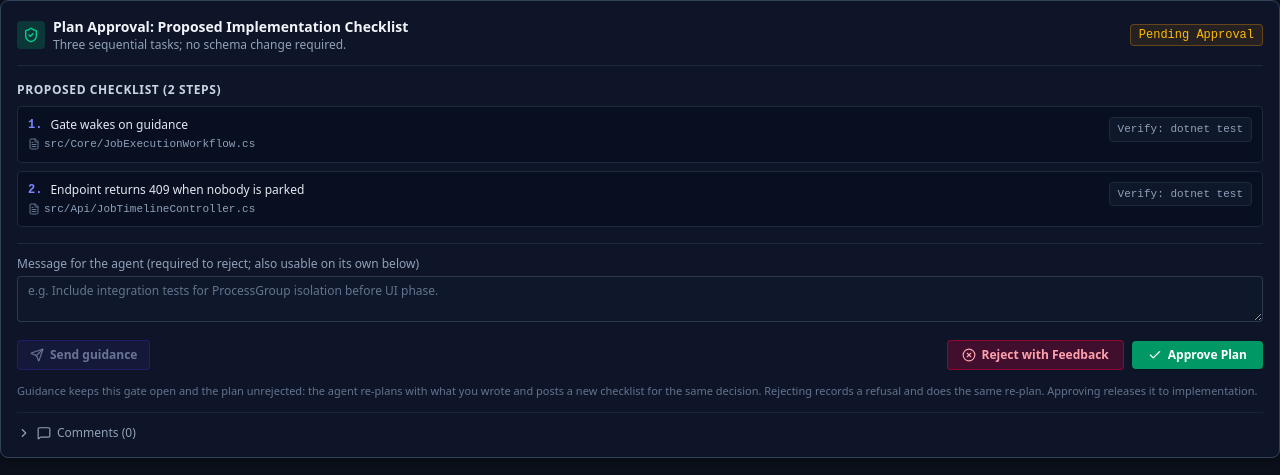
PlanApprovalCard › sends guidance without deciding, and leaves the gate open to be decided
Expected: the button with test id "plan-send-guidance" is disabled, [17,340,150,370]
Replace the text in the text box with placeholder "integration tests for ProcessGroup isolation" with "  The billing module is frozen this sprint.  ": x=640, y=299 [17,276,1263,322]
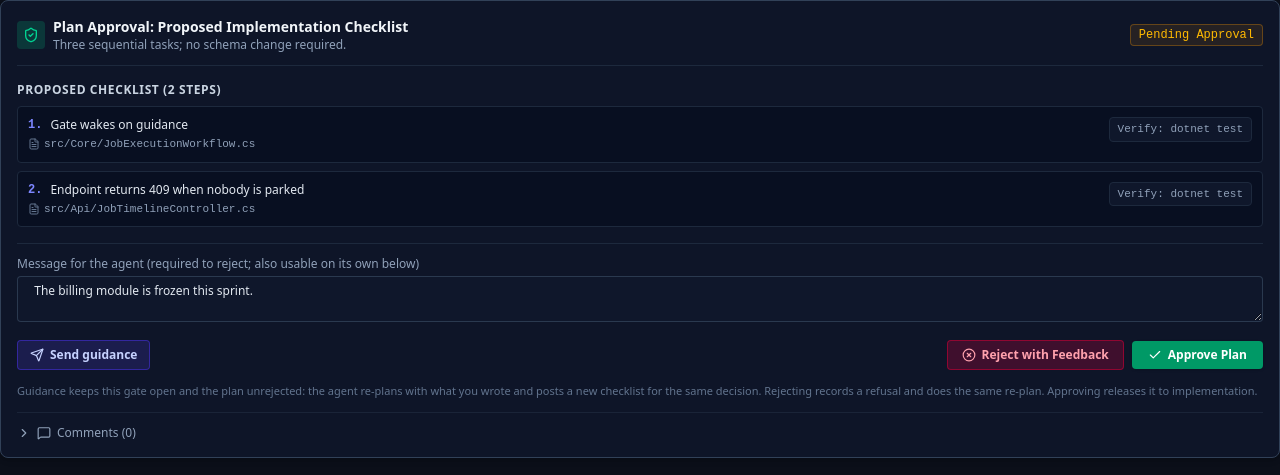
Expected: the button with test id "plan-send-guidance" is enabled
Click the button with test id "plan-send-guidance": x=84, y=355 [17,340,150,370]
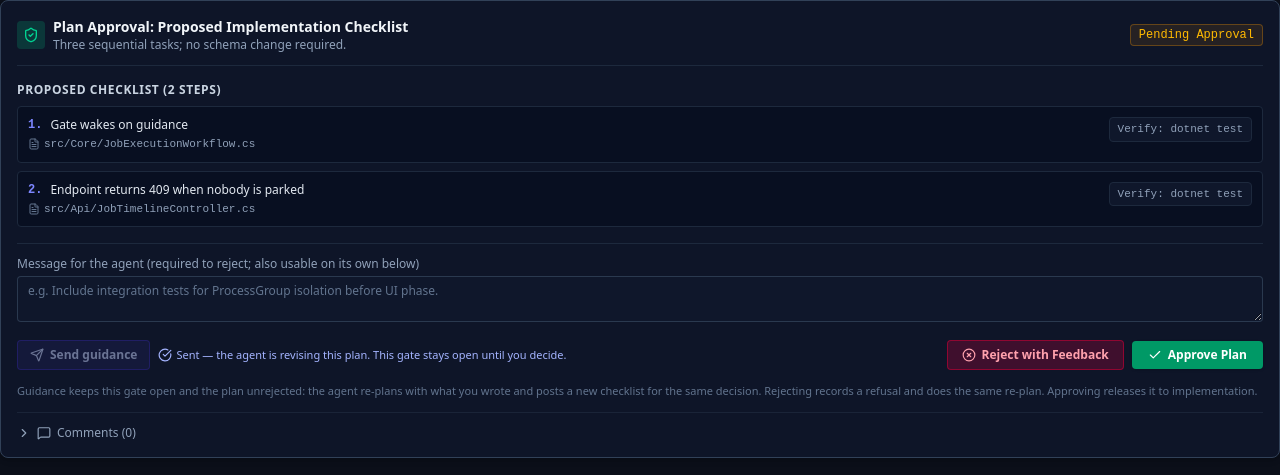
Expected: the text with test id "plan-verdict-badge" reads "Pending Approval", [1139,28,1254,42]
Expected: the element with test id "plan-guidance-sent" shows "stays open", [176,347,566,362]
Expected: the text box with placeholder "integration tests for ProcessGroup isolation" is empty, [17,276,1263,322]
